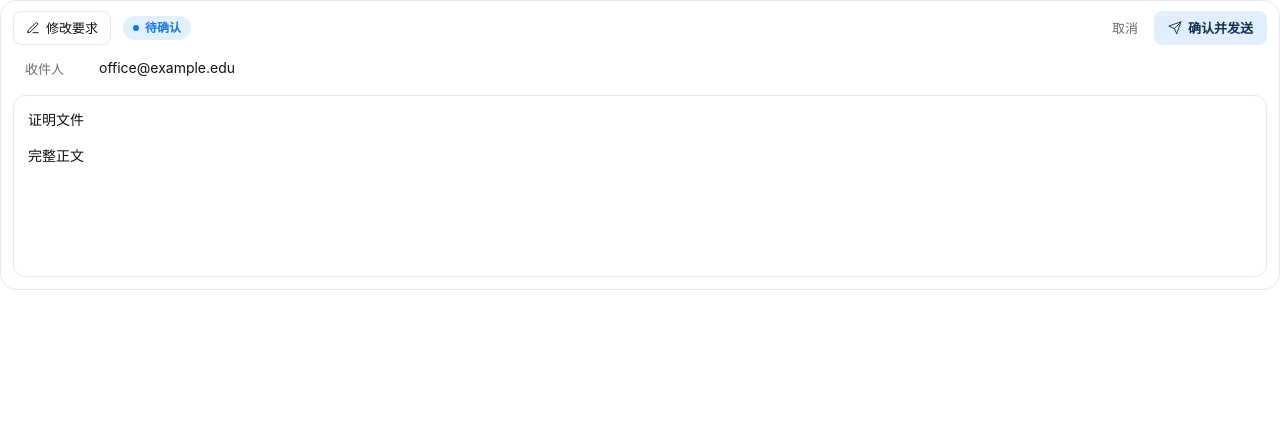
重新载入最新内容会丢弃未保存的本地值
This screenshot has width=1280, height=432.
Replace the text in the text box named "主题" with "尚未保存" at (640, 120), box [28,108,1252,132]
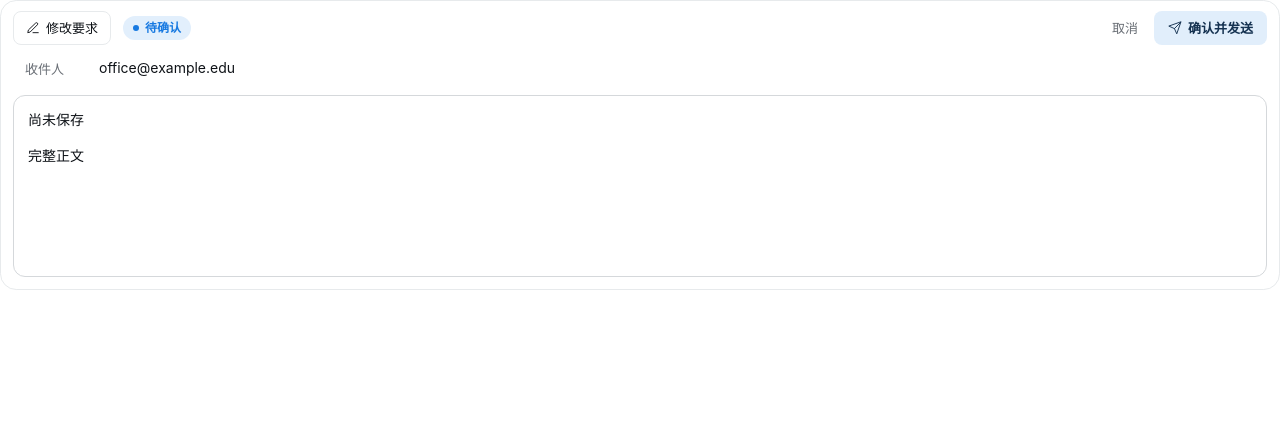
Press Tab
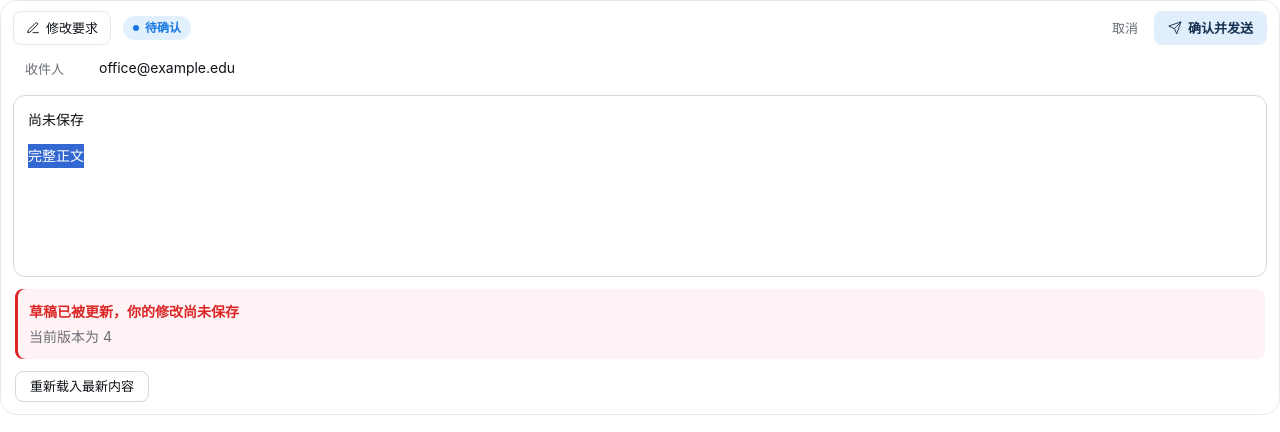
Click the button "重新载入最新内容" at (82, 387), box [15,371,149,402]
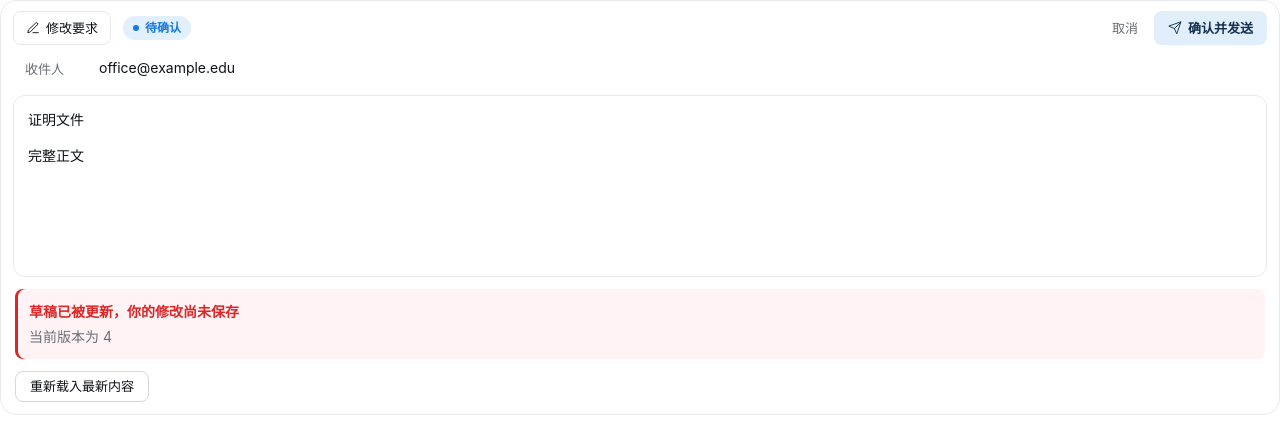
Expected: the text box named "主题" holds "证明文件", [28,108,1252,132]
